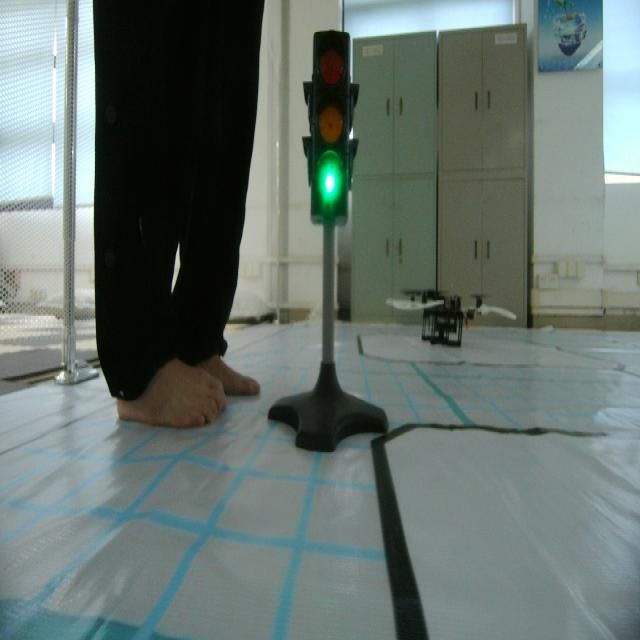green: (303, 26, 353, 218)
